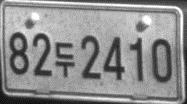0: (151, 38, 173, 83)
1: (128, 36, 145, 82)
2: (79, 34, 102, 80), (31, 32, 52, 77)
4: (101, 35, 125, 81)
8: (8, 31, 30, 75)
두: (54, 41, 75, 79)
